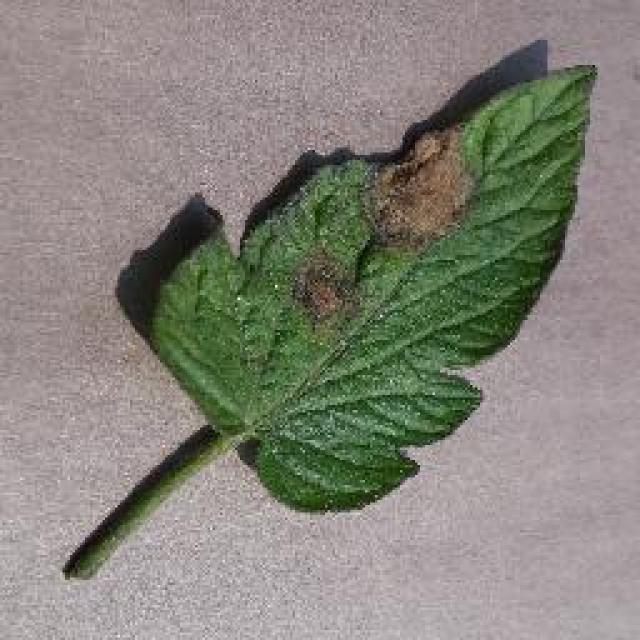Tomato late blight leaf: (144, 66, 594, 519)
